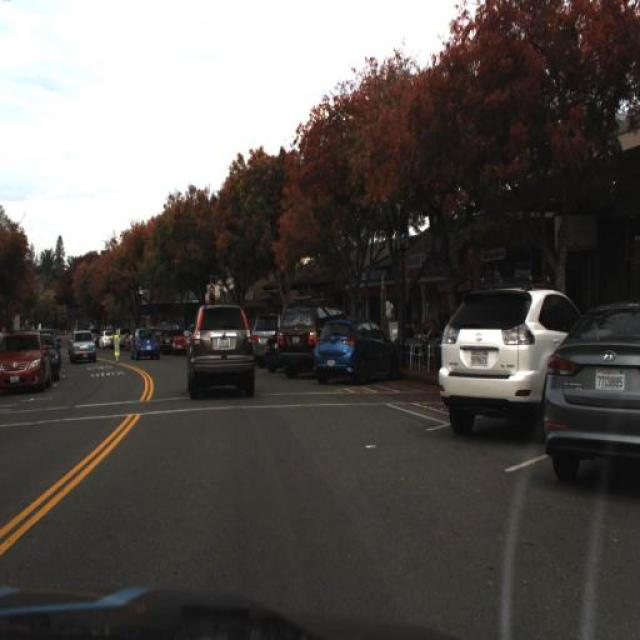car: (438, 273, 548, 442), (543, 300, 639, 488), (182, 298, 259, 407), (310, 311, 402, 390), (276, 296, 326, 382), (0, 327, 51, 398), (125, 321, 165, 365), (67, 322, 101, 368), (43, 329, 62, 385), (67, 330, 95, 360), (266, 331, 278, 377)
